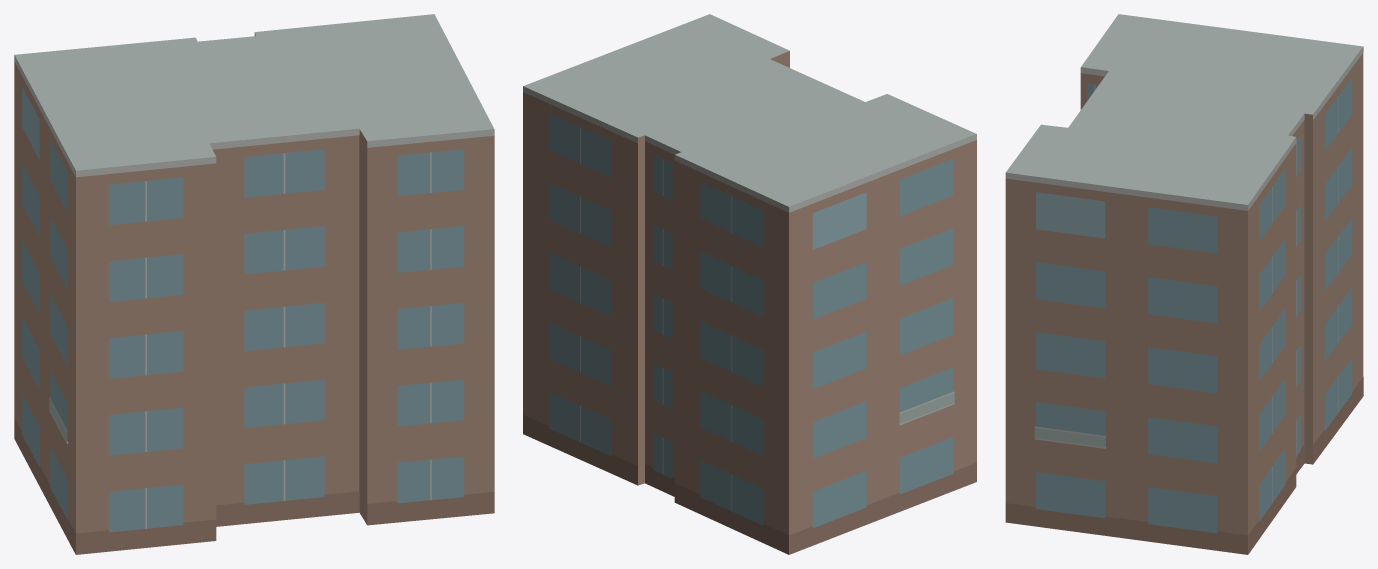
File: survey-upis-32526591.glb
3 views of the same model, side by side, from view 1: azimuth 30°, elevation 25°; view 2: azimuth 150°, elevation 25°; view 3: azimuth 270°, elevation 25° (orthographic). The views are drawn at different scales.
Parts seen in each view (by area): view 1: survey-upis-32526591.tmp; view 2: survey-upis-32526591.tmp; view 3: survey-upis-32526591.tmp.
Part boxes in pixels (x1,y1,x2,y2): survey-upis-32526591.tmp: [14, 14, 494, 554]; survey-upis-32526591.tmp: [523, 14, 976, 554]; survey-upis-32526591.tmp: [1005, 14, 1363, 554].
Size of the model in its own units: 16.87 by 14.4 by 13.36.
